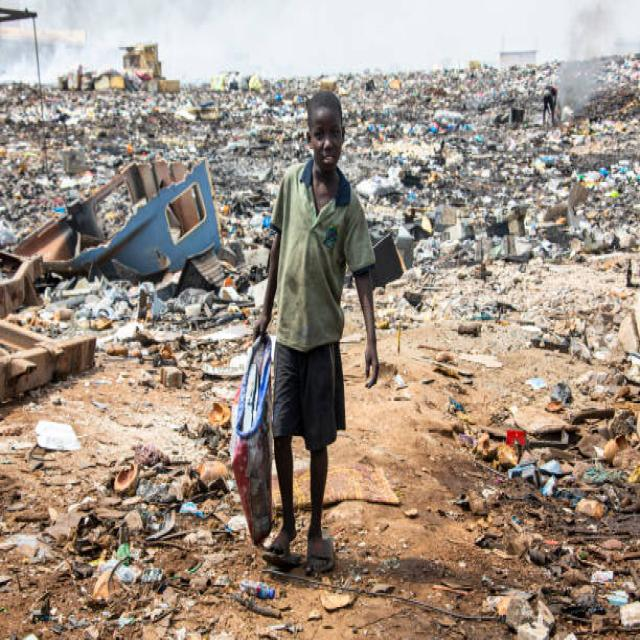cardboard: (42, 187, 220, 282)
trash: (481, 340, 630, 560), (428, 88, 623, 230), (82, 403, 246, 571), (47, 85, 282, 169), (232, 352, 273, 544)
